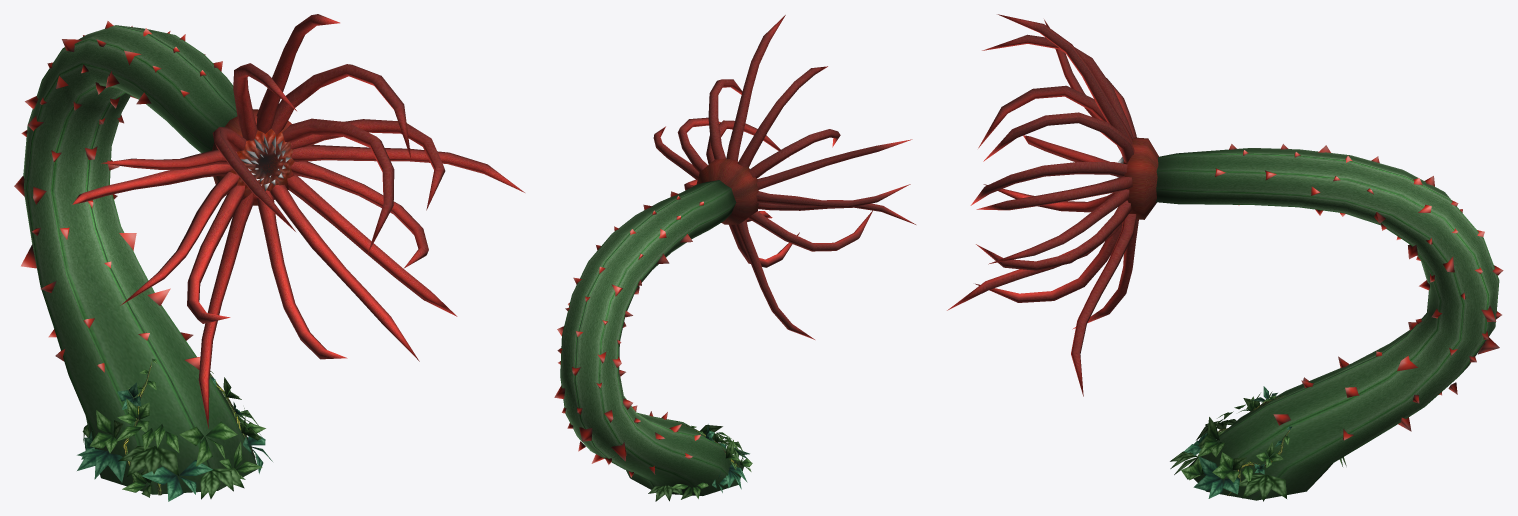
File: Crimson Vine.fbx
The picture shows the model from 3 angles, left to right: view 1: azimuth 30°, elevation 25°; view 2: azimuth 150°, elevation 25°; view 3: azimuth 270°, elevation 25°; orthographic projection. The views are drawn at different scales.
Parts seen in each view (by area): view 1: Body; view 2: Body; view 3: Body.
Boxes of the visible parts, x1,y1,x2,y2 form: Body: (14, 14, 524, 501); Body: (554, 15, 915, 501); Body: (947, 14, 1503, 501).
Bounding box in the file's own units: 1201 × 1557 × 1702.
Materials: 1 (1 with a texture image).
